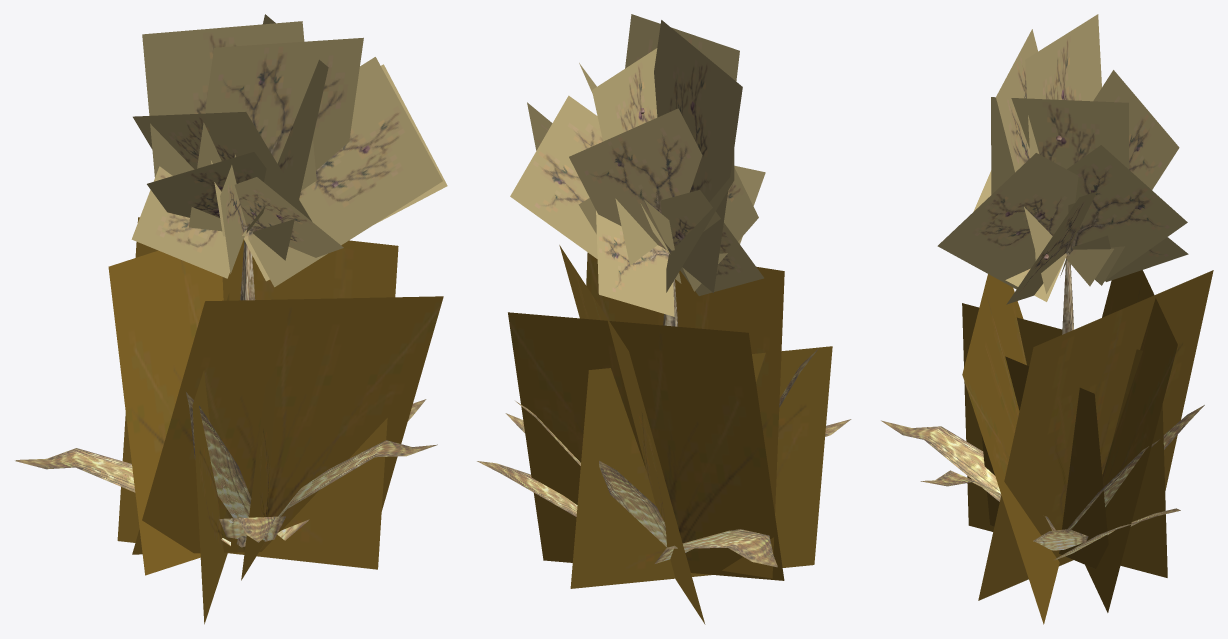
The model's file is succ_tatt_jinapur_bush_l1.fbx.
3 views of the same model, side by side, from view 1: azimuth 30°, elevation 25°; view 2: azimuth 150°, elevation 25°; view 3: azimuth 270°, elevation 25° (orthographic). The views are drawn at different scales.
Parts seen in each view (by area): view 1: mesh_node; view 2: mesh_node; view 3: mesh_node.
Boxes of the visible parts, box(x1,y1,x2,y2) form: mesh_node: box(15, 14, 447, 624); mesh_node: box(477, 14, 851, 624); mesh_node: box(881, 14, 1213, 624).
Bounding box in the file's own units: 1.86 × 2.84 × 1.62.
